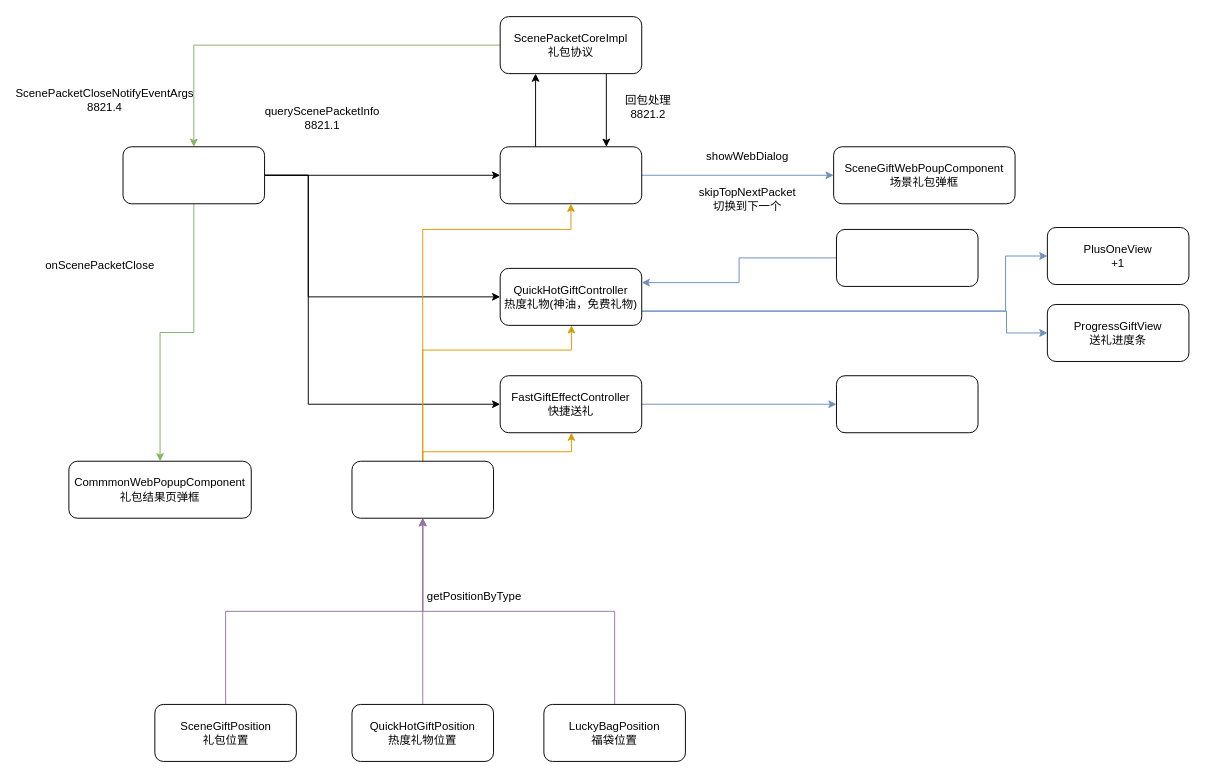
Some shapes in this 1206 by 778 pixel diagram are drawn without their labels. The shapes that lost their labels are listed below. From the top down, each one's centre as x and y in pixels, then its label:
point 193,175: GiftModule 礼物模块
point 570,175: SceneGiftController 礼包控制
point 907,257: QuickHotGiftTipsController 热度礼物提示
point 907,404: GiftBubbleView 快捷送礼
point 422,489: GiftIconPositionManager 礼包福袋等位置
